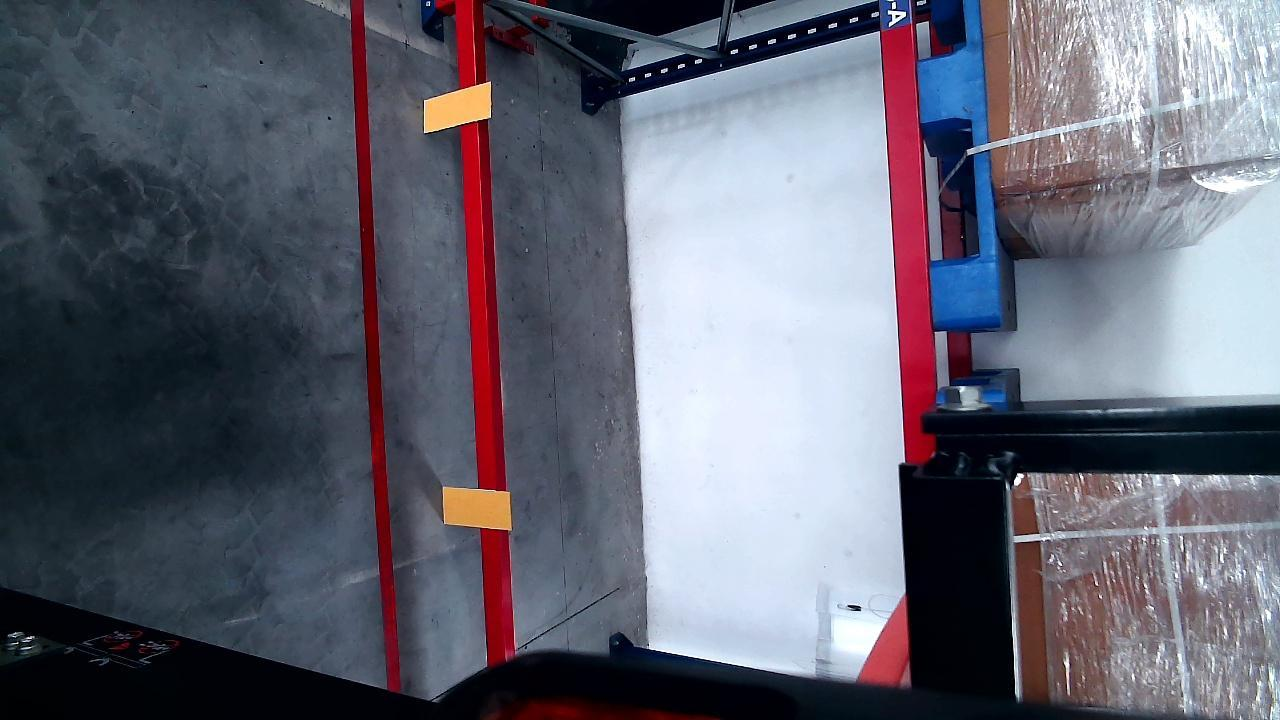red_line: (353, 0, 397, 698)
